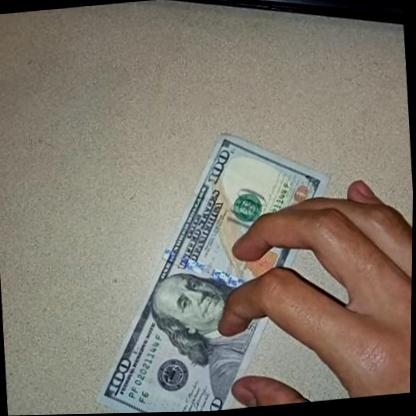dollar_front: (79, 119, 356, 415)
